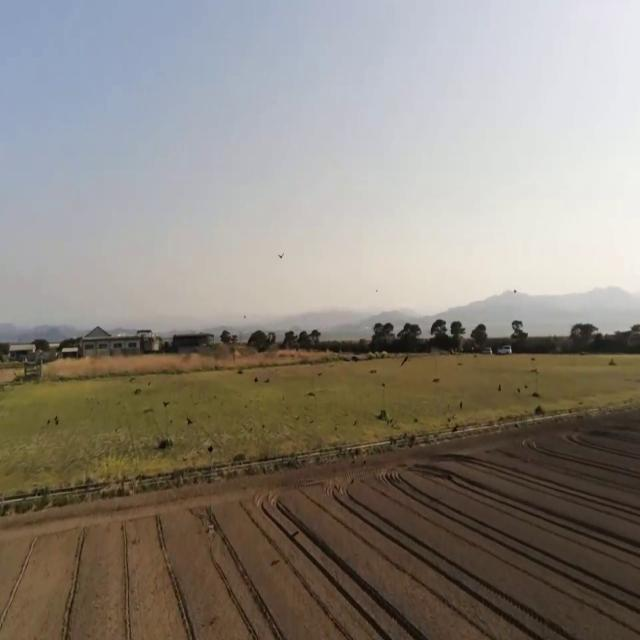bird: (186, 411, 193, 429), (278, 247, 285, 264)
